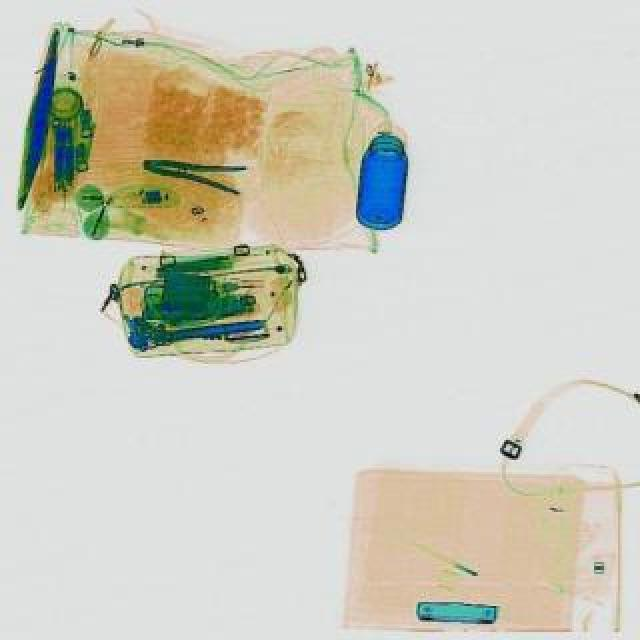wrench: (138, 150, 246, 196)
